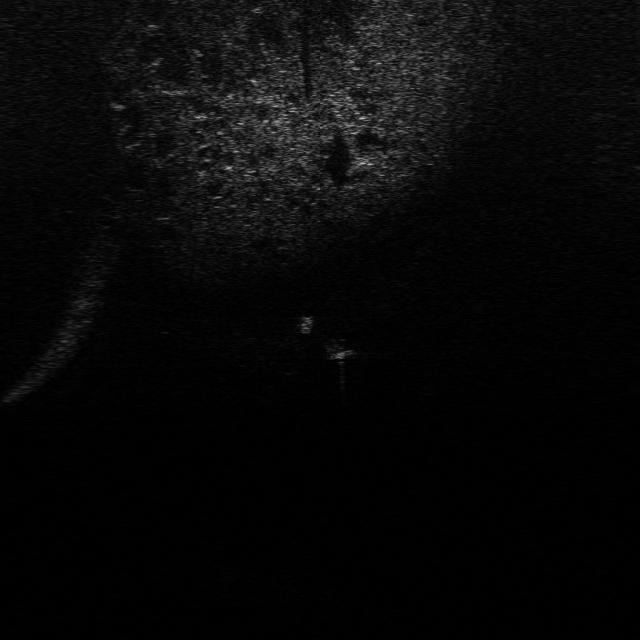cube: (317, 337, 358, 363)
cylinder: (296, 312, 314, 338)
